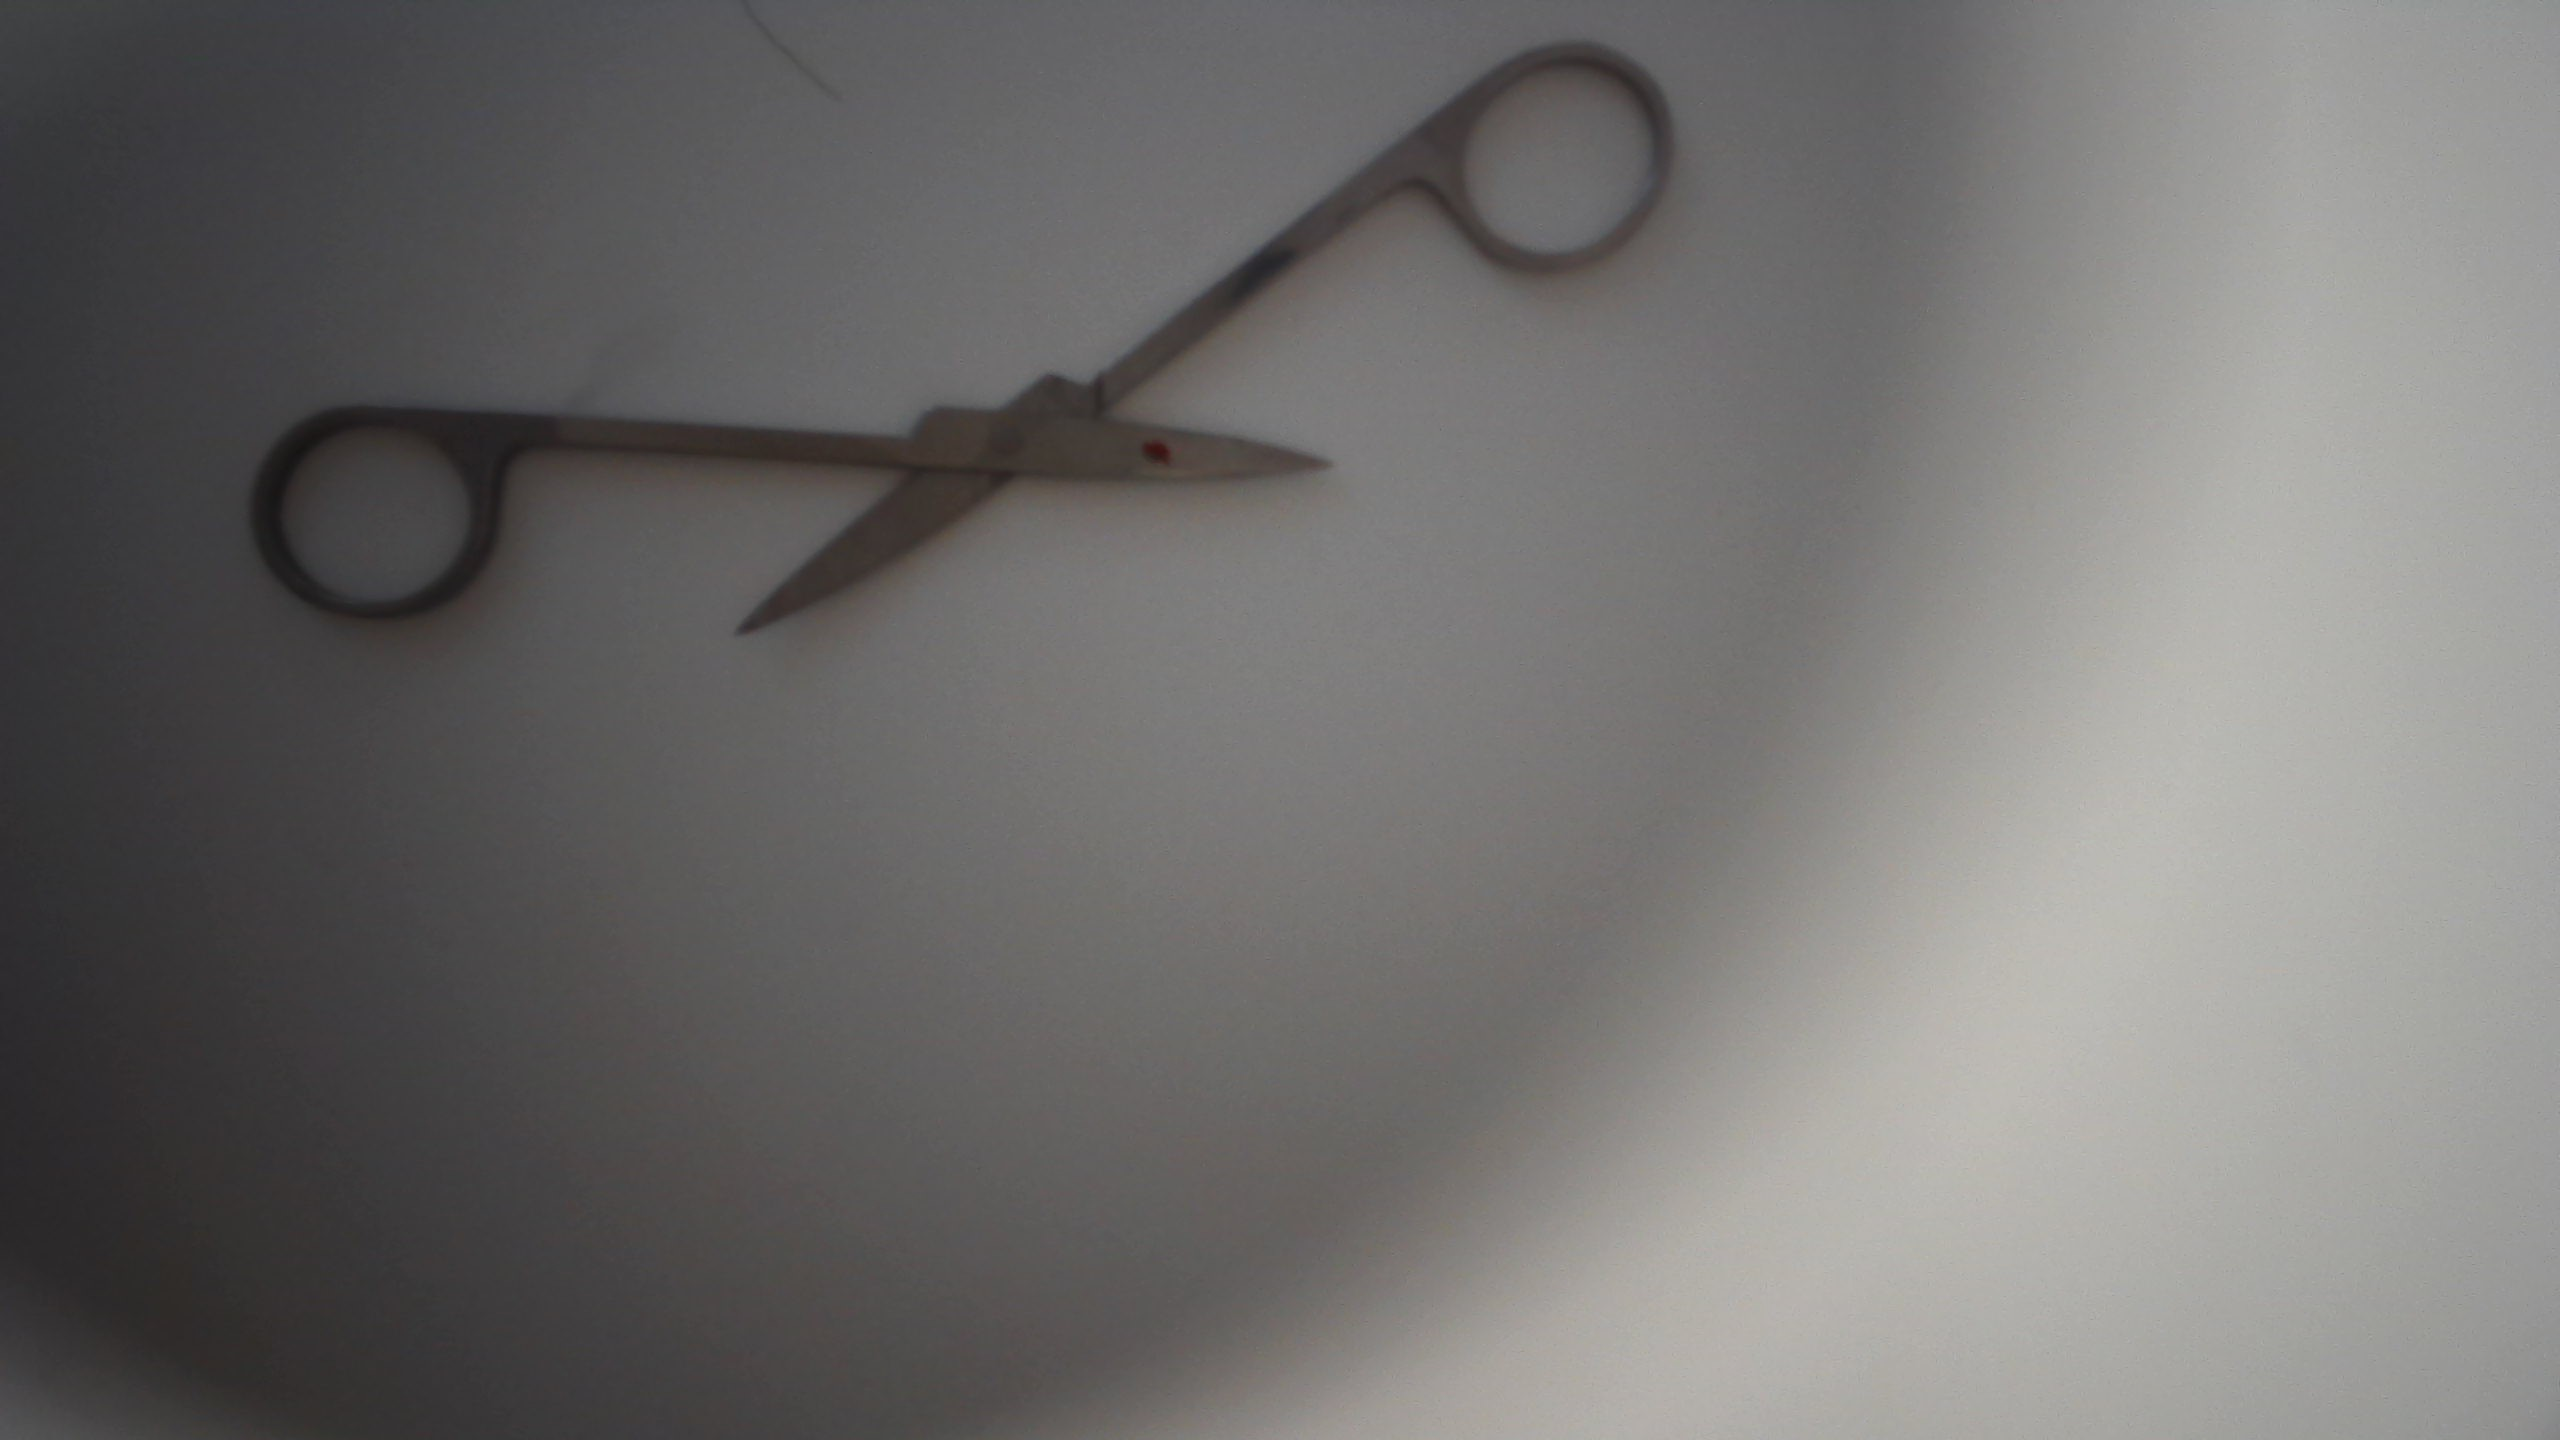Stain: (1134, 433, 1189, 464)
